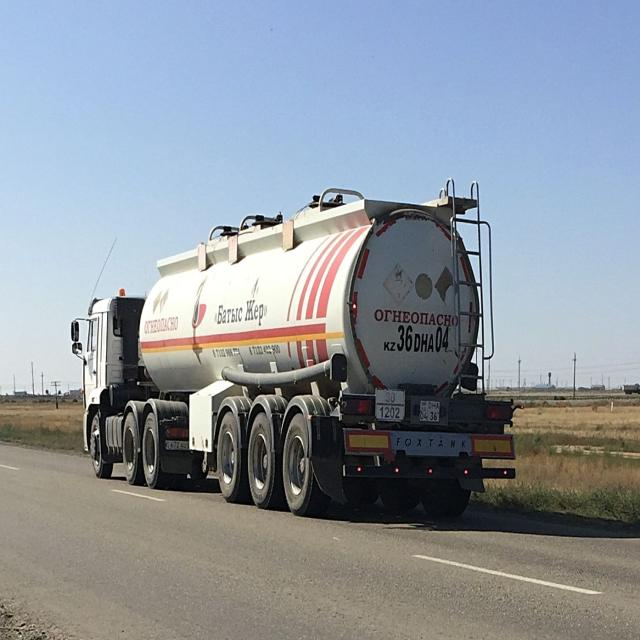License-plate: (416, 395, 445, 430)
